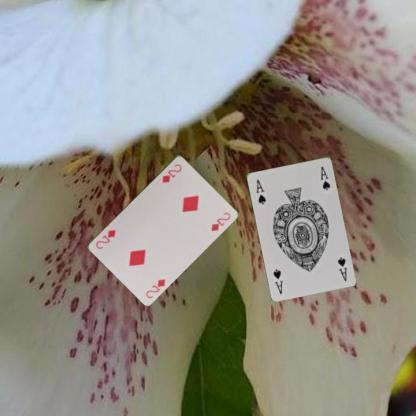2d: (160, 162, 183, 184), (144, 276, 166, 299)
As: (253, 176, 267, 206), (334, 254, 349, 282)
